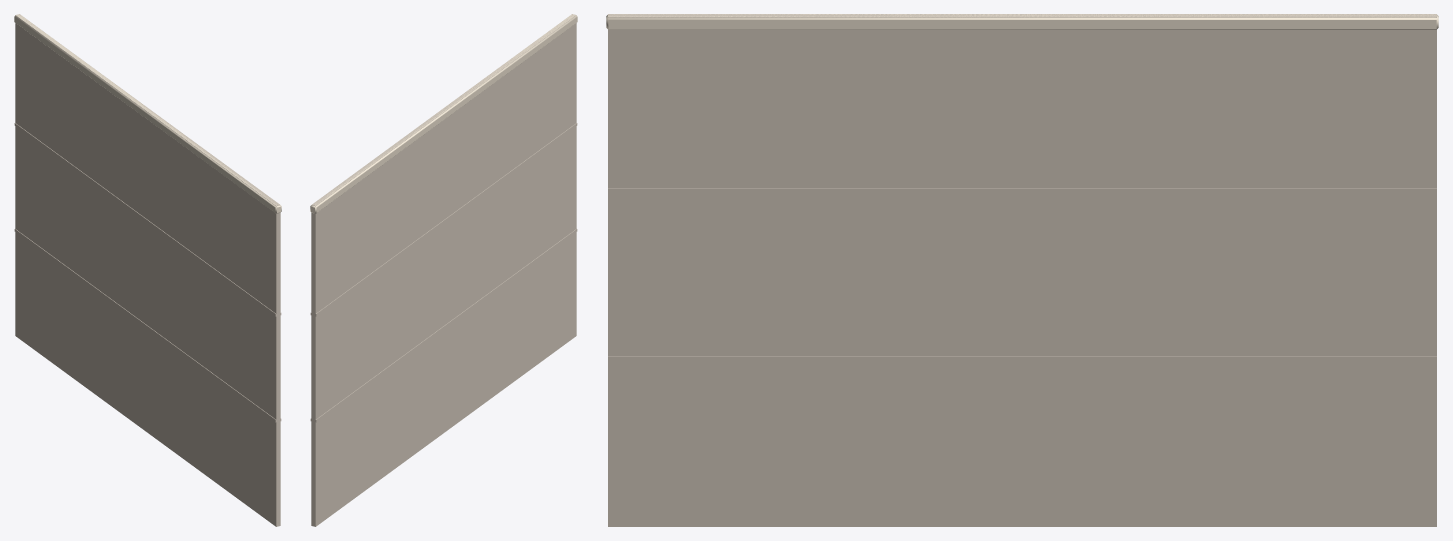
The model's file is medianera_a.fbx.
3 renders of one model, left to right at view 1: azimuth 30°, elevation 25°; view 2: azimuth 150°, elevation 25°; view 3: azimuth 270°, elevation 25°, orthographic. The views are drawn at different scales.
Visible parts, largest first — view 1: medianera_a; view 2: medianera_a; view 3: medianera_a.
Part boxes in pixels (left/top/right/bottom): medianera_a: left=14, top=14, right=281, bottom=526; medianera_a: left=310, top=14, right=577, bottom=526; medianera_a: left=606, top=14, right=1438, bottom=526.
Size of the model in its own units: 0.2 by 9.7 by 14.36.
